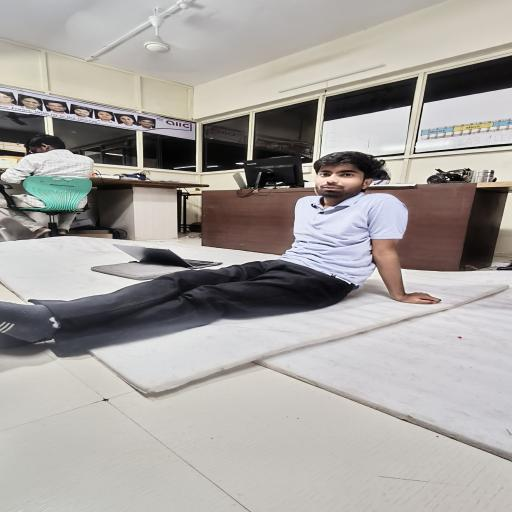survivor: (0, 150, 442, 357), (0, 134, 94, 238)
